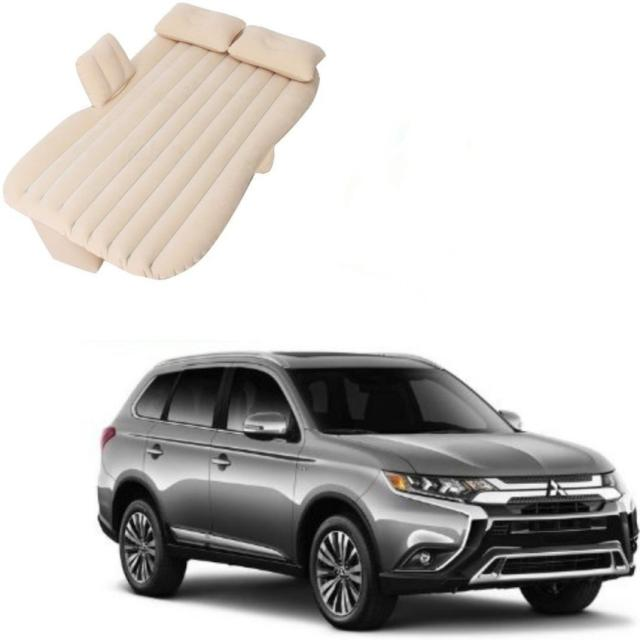light_vehicle: (95, 351, 638, 629)
